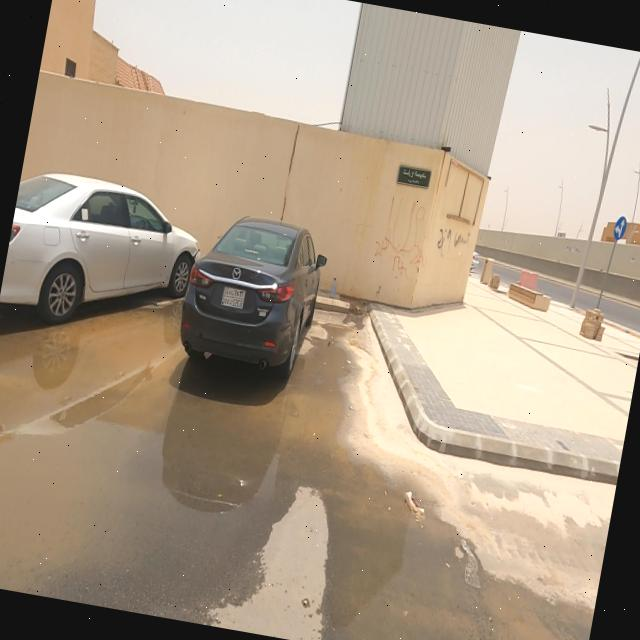Graffiti: (370, 196, 436, 276), (433, 222, 472, 262)
